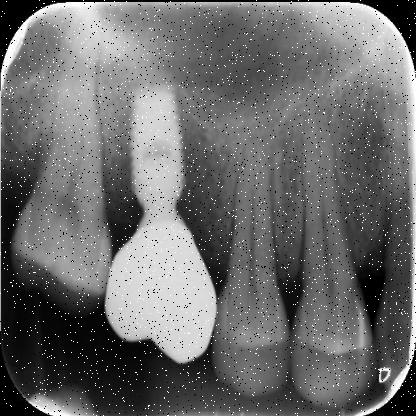Bicon: (116, 80, 186, 222)
